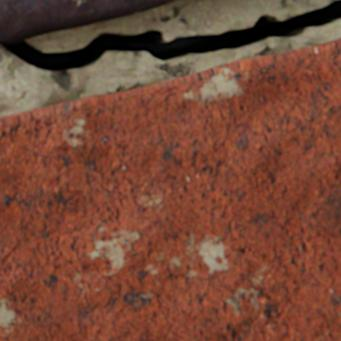brick: (0, 39, 340, 340), (0, 0, 177, 42)
crack: (0, 0, 340, 72)
